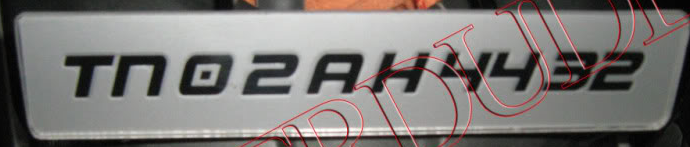0: (178, 52, 234, 98)
2: (241, 50, 301, 99), (590, 49, 642, 94)
3: (536, 49, 598, 90)
4: (491, 47, 541, 94), (440, 49, 490, 94)
A: (306, 49, 363, 94)
H: (370, 50, 430, 95)
N: (107, 51, 171, 99)
T: (59, 51, 115, 102)
